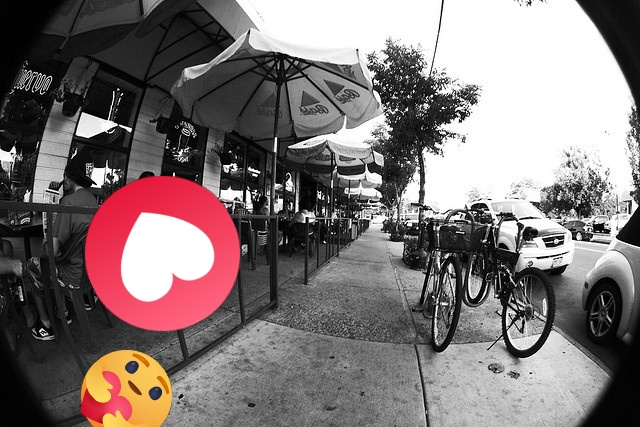care: (81, 350, 172, 427)
love: (85, 176, 240, 331)
